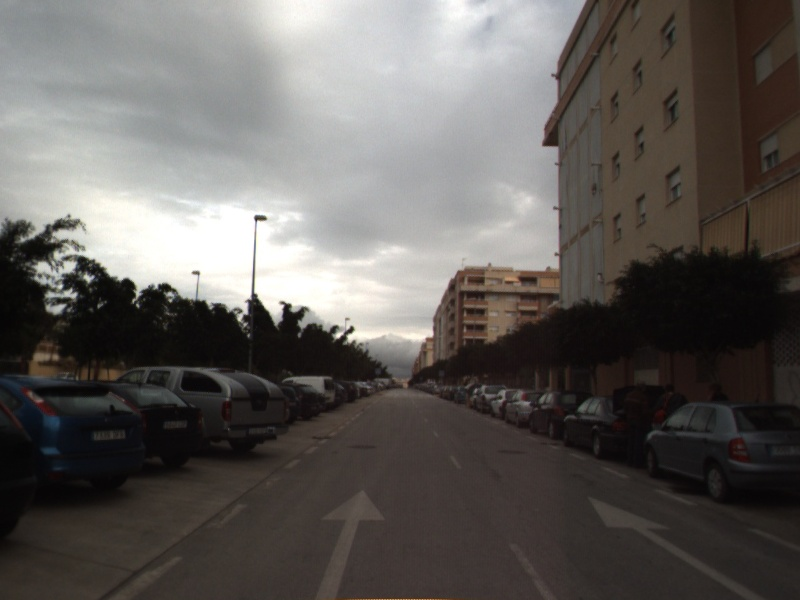STRAIGHT: (585, 494, 770, 600), (311, 487, 388, 600)
